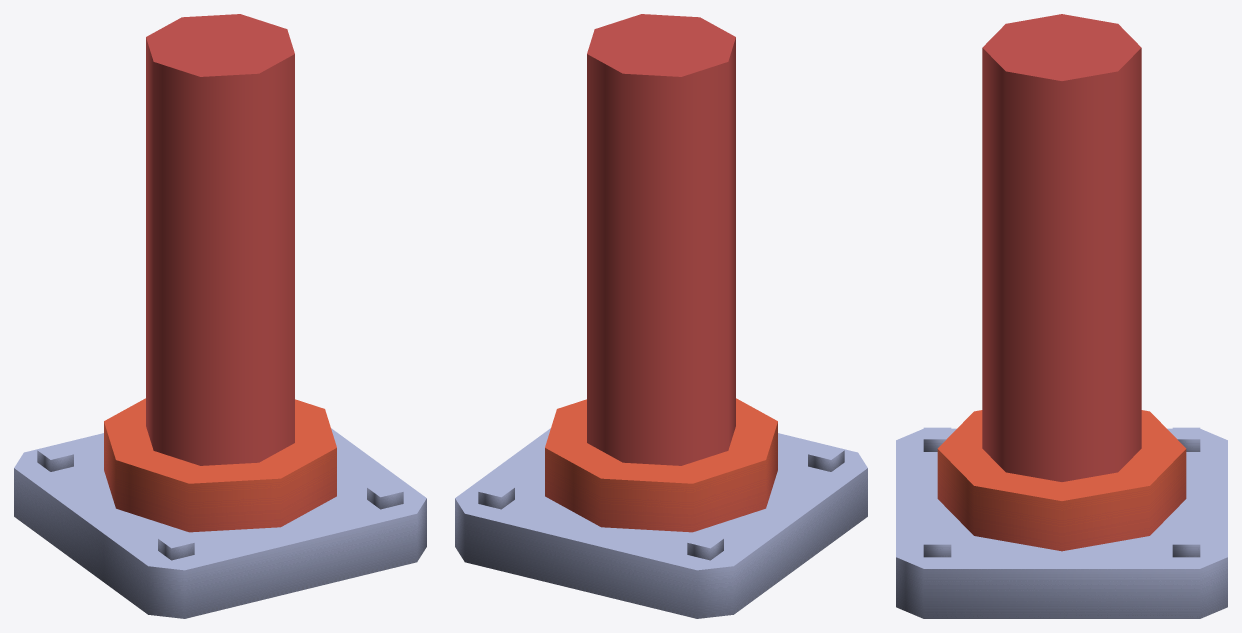
Rendered from coaster-kit--support-small-bottom.glb.
The picture shows the model from 3 angles, left to right: view 1: azimuth 30°, elevation 25°; view 2: azimuth 150°, elevation 25°; view 3: azimuth 270°, elevation 25°; orthographic projection. The views are drawn at different scales.
Visible parts, largest first — view 1: support-small-bottom; view 2: support-small-bottom; view 3: support-small-bottom.
Boxes of the visible parts, <box> form: support-small-bottom: <box>14,14,426,618</box>; support-small-bottom: <box>455,14,867,618</box>; support-small-bottom: <box>896,14,1227,618</box>.
Bounding box in the file's own units: 0.6 × 1 × 0.6.
Materials: 1 (1 with a texture image).
